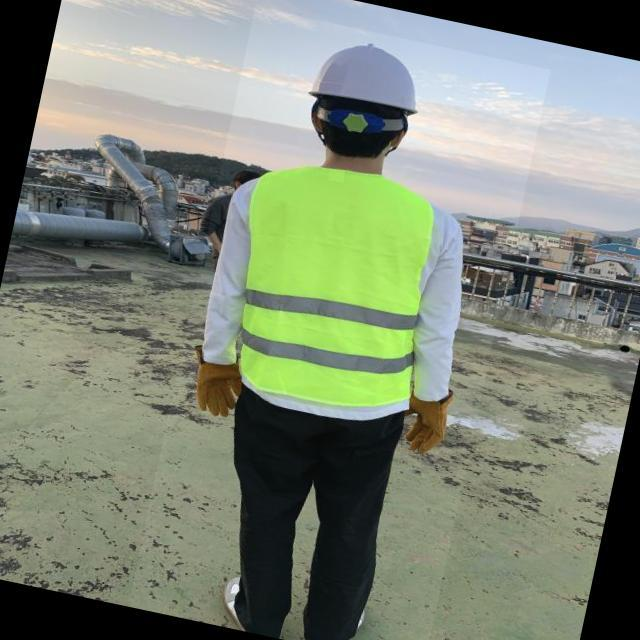Helmet: (306, 32, 429, 121)
Human: (127, 7, 550, 640)
Safety Vest: (215, 152, 455, 421)
